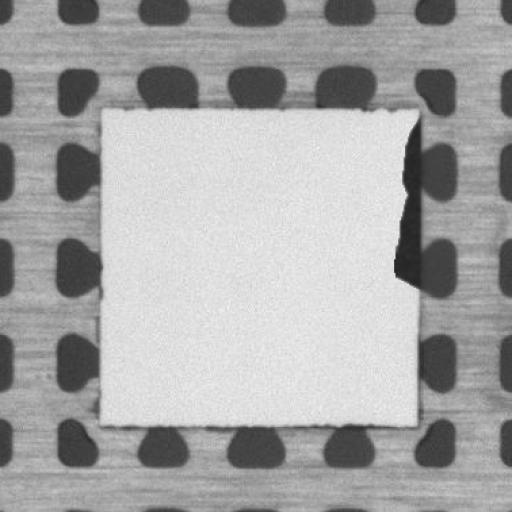DIE_BROKEN: (388, 123, 422, 290)
